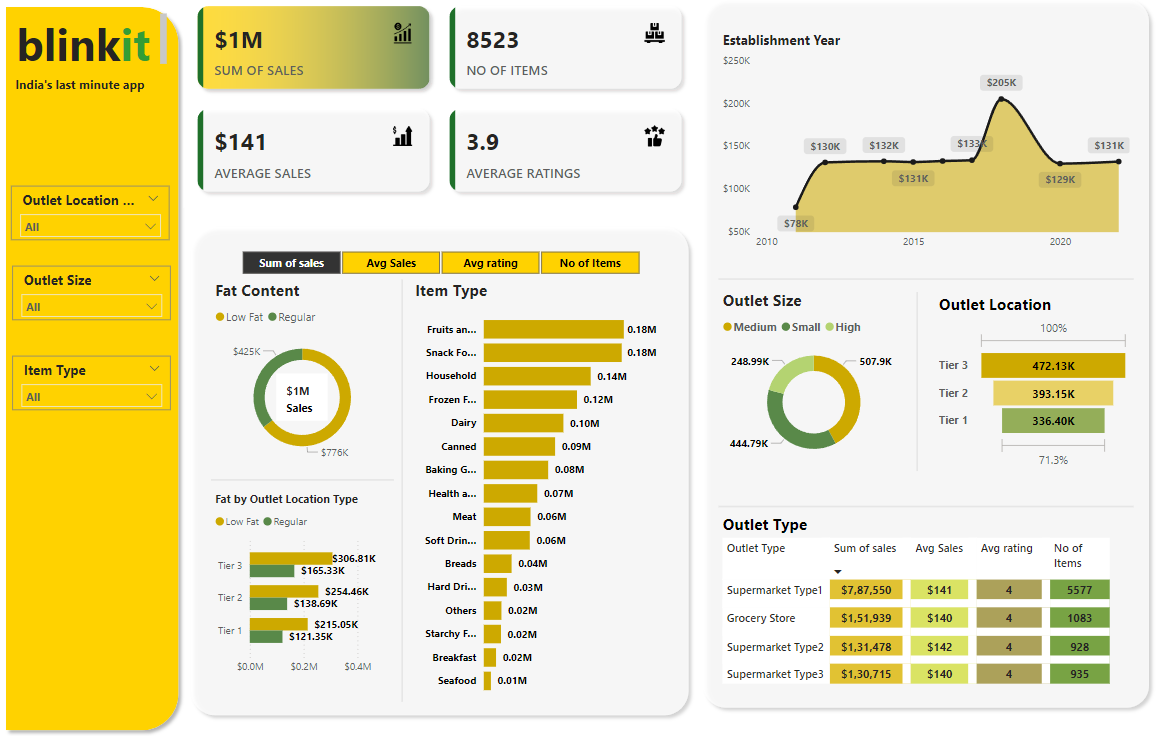

What the dashboard file says about the page in this screenshot:
{"tool":"powerbi","page":{"name":"Page 1","canvas":[1400,900],"ordinal":0},"visuals":[{"type":"shape","box":[2.5,0,225.9,890.1],"z":0},{"type":"textbox","box":[19.8,9.9,191.4,86.4],"z":1000},{"type":"textbox","box":[19.8,80.2,176.5,33.3],"z":2000},{"type":"cardVisual","fields":{"Data":["BlinkIT Grocery Data.Sum of sales","BlinkIT Grocery Data.No of rows","BlinkIT Grocery Data.AVG","BlinkIT Grocery Data.avg rating"]},"box":[226.1,0,618.3,259.6],"z":3000},{"type":"shape","box":[226.1,275,618.3,607.2],"z":4000},{"type":"donutChart","title":"Fat Content","fields":{"Y":["BlinkIT Grocery Data.Sum of sales"],"Series":["BlinkIT Grocery Data.Item Fat Content"]},"box":[261,346.2,220.5,231.7],"z":5000},{"type":"cardVisual","fields":{"Data":["BlinkIT Grocery Data.Sum of sales"]},"box":[331.8,434.3,98,98],"z":6000},{"type":"clusteredBarChart","title":"Fat by Outlet Location Type","fields":{"Y":["BlinkIT Grocery Data.Sum of sales"],"Category":["BlinkIT Grocery Data.Outlet Location Type"],"Series":["BlinkIT Grocery Data.Item Fat Content"]},"box":[259.6,614.1,220.5,230.3],"z":7000},{"type":"shape","box":[259.6,577.9,220.5,25.1],"z":8000},{"type":"shape","box":[480.2,347.6,20.9,509.5],"z":9000},{"type":"clusteredBarChart","title":" Item Type","fields":{"Y":["BlinkIT Grocery Data.Sum of sales"],"Category":["BlinkIT Grocery Data.Item Type"]},"box":[501.1,347.6,301.5,512.3],"z":10000},{"type":"shape","box":[844.5,9.8,555.5,872.4],"z":11000},{"type":"lineChart","title":"Establishment Year","fields":{"Y":["BlinkIT Grocery Data.Sum of sales"],"Category":["BlinkIT Grocery Data.Outlet Establishment Year"]},"box":[871,47.5,501.1,272.2],"z":12000},{"type":"shape","box":[871,330.8,501.1,32.1],"z":13000},{"type":"donutChart","title":"Outlet Size","fields":{"Category":["BlinkIT Grocery Data.Outlet Size"],"Y":["Sum(BlinkIT Grocery Data.Sales)"]},"box":[871,358.7,230.3,217.7],"z":14000},{"type":"shape","box":[1101.3,361.5,20.9,216.3],"z":15000},{"type":"funnel","title":"Outlet Location","fields":{"Y":["Sum(BlinkIT Grocery Data.Sales)"],"Category":["BlinkIT Grocery Data.Outlet Location Type"]},"box":[1134.8,358.7,238.7,230.3],"z":16000},{"type":"shape","box":[872.4,614.1,501.1,14],"z":17000},{"type":"pivotTable","title":"Outlet Type","fields":{"Rows":["BlinkIT Grocery Data.Outlet Type"],"Values":["BlinkIT Grocery Data.Sum of sales","BlinkIT Grocery Data.Avg Sales","BlinkIT Grocery Data.Avg rating","BlinkIT Grocery Data.No of Items"]},"box":[872.4,628.1,499.7,219.1],"z":18000},{"type":"slicer","fields":{"Values":["BlinkIT Grocery Data.Outlet Location Type"]},"box":[25.1,138.2,185.6,65.6],"z":19000},{"type":"slicer","fields":{"Values":["BlinkIT Grocery Data.Outlet Size"]},"box":[25.1,226.1,185.6,65.6],"z":20000},{"type":"slicer","fields":{"Values":["BlinkIT Grocery Data.Item Type"]},"box":[25.1,314.1,185.6,65.6],"z":21000},{"type":"slicer","fields":{"Values":["METRICS.METRICS"]},"box":[261,298.7,529,41.9],"z":22000},{"type":"image","box":[40.7,666.7,151.9,181.5],"z":23000}]}

Visuals, with their boxes in screenshot pixels (x1, y1, x2, y2), scaled from the page's 1400x900 canvas onto the 1156x736 screenshot:
shape: <box>2,0,189,728</box>
textbox: <box>16,8,174,79</box>
textbox: <box>16,66,162,93</box>
cardVisual - BlinkIT Grocery Data.Sum of sales x BlinkIT Grocery Data.No of rows: <box>187,0,697,212</box>
shape: <box>187,225,697,721</box>
"Fat Content" donutChart: <box>216,283,398,473</box>
cardVisual - BlinkIT Grocery Data.Sum of sales: <box>274,355,355,435</box>
"Fat by Outlet Location Type" clusteredBarChart: <box>214,502,396,691</box>
shape: <box>214,473,396,493</box>
shape: <box>397,284,414,701</box>
" Item Type" clusteredBarChart: <box>414,284,663,703</box>
shape: <box>697,8,1155,721</box>
"Establishment Year" lineChart: <box>719,39,1133,261</box>
shape: <box>719,271,1133,297</box>
"Outlet Size" donutChart: <box>719,293,909,471</box>
shape: <box>909,296,927,473</box>
"Outlet Location" funnel: <box>937,293,1134,482</box>
shape: <box>720,502,1134,514</box>
"Outlet Type" pivotTable: <box>720,514,1133,693</box>
slicer - BlinkIT Grocery Data.Outlet Location Type: <box>21,113,174,167</box>
slicer - BlinkIT Grocery Data.Outlet Size: <box>21,185,174,239</box>
slicer - BlinkIT Grocery Data.Item Type: <box>21,257,174,311</box>
slicer - METRICS.METRICS: <box>216,244,652,279</box>
image: <box>34,545,159,694</box>
